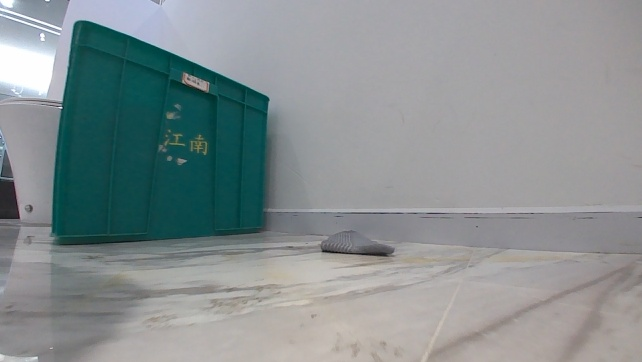socks: (316, 226, 394, 256)
toilet: (0, 96, 63, 226)
